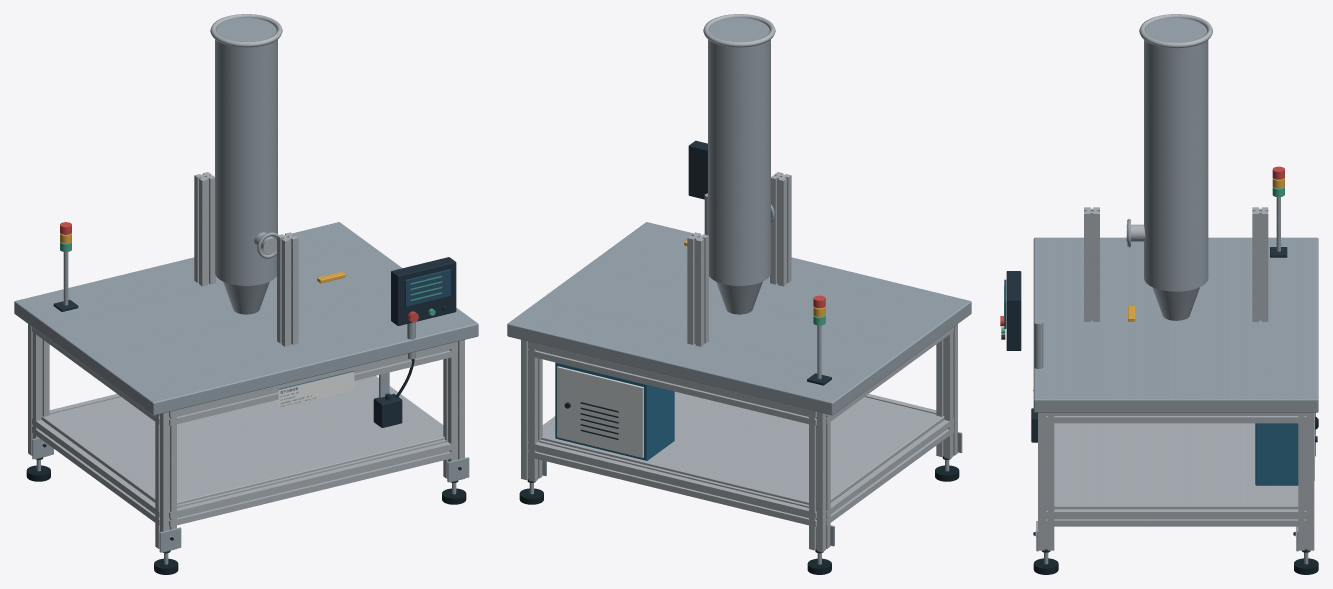
Rendered from ion-exchange-cell.glb.
3 renders of one model, left to right at view 1: azimuth 30°, elevation 25°; view 2: azimuth 150°, elevation 25°; view 3: azimuth 270°, elevation 25°, orthographic. The views are drawn at different scales.
Visible parts, largest first — view 1: ClosedMachineBed_40, LowerShelf_41, ProcessShell_73, SlottedExtrusion_34, SlottedExtrusion_35, SlottedExtrusion_11, SlottedExtrusion_36, SlottedExtrusion_72, ConsoleBack_52, SlottedExtrusion_71, SlottedExtrusion_27, SlottedExtrusion_3 (+6 smaller); view 2: ClosedMachineBed_40, LowerShelf_41, ProcessShell_73, BackDoor_43, SlottedExtrusion_32, SlottedExtrusion_33, SlottedExtrusion_3, SlottedExtrusion_19, Cabinet_42, SlottedExtrusion_36, SlottedExtrusion_71, SlottedExtrusion_11 (+5 smaller); view 3: ClosedMachineBed_40, LowerShelf_41, ProcessShell_73, SlottedExtrusion_38, SlottedExtrusion_39, Cabinet_42, SlottedExtrusion_27, SlottedExtrusion_19, SlottedExtrusion_71, SlottedExtrusion_72, ConsoleBack_52, ConeBottom_74 (+2 smaller).
Part boxes in pixels (x1,y1,x2,y2): ClosedMachineBed_40: (14,222,478,415); LowerShelf_41: (41,377,444,504); ProcessShell_73: (215,18,277,285); SlottedExtrusion_34: (169,439,457,526); SlottedExtrusion_35: (169,341,457,425); SlottedExtrusion_11: (155,410,176,552); SlottedExtrusion_36: (32,418,159,525); SlottedExtrusion_72: (277,232,298,346); ConsoleBack_52: (391,257,456,325); SlottedExtrusion_71: (194,172,215,286); SlottedExtrusion_27: (443,340,464,481); SlottedExtrusion_3: (28,324,49,458); ClosedMachineBed_40: (507,222,971,415); LowerShelf_41: (541,391,944,504); ProcessShell_73: (708,18,770,285); BackDoor_43: (557,366,643,457); SlottedExtrusion_32: (528,439,816,526); SlottedExtrusion_33: (528,341,816,425); SlottedExtrusion_3: (809,410,830,552); SlottedExtrusion_19: (521,340,542,481); Cabinet_42: (555,362,674,460); SlottedExtrusion_36: (826,418,953,525); SlottedExtrusion_71: (687,232,708,346); SlottedExtrusion_11: (936,324,957,458); ClosedMachineBed_40: (1033,237,1318,412); LowerShelf_41: (1054,423,1298,509); ProcessShell_73: (1144,18,1208,291); SlottedExtrusion_38: (1046,509,1306,526); SlottedExtrusion_39: (1046,412,1306,423); Cabinet_42: (1255,423,1298,485); SlottedExtrusion_27: (1038,412,1054,550); SlottedExtrusion_19: (1298,412,1314,550); SlottedExtrusion_71: (1252,207,1268,321); SlottedExtrusion_72: (1084,207,1099,321); ConsoleBack_52: (1006,271,1021,350); ConeBottom_74: (1152,287,1199,320).
Size of the model in its own units: 1.55 by 2.09 by 1.29.
11 materials, 3 textured.
